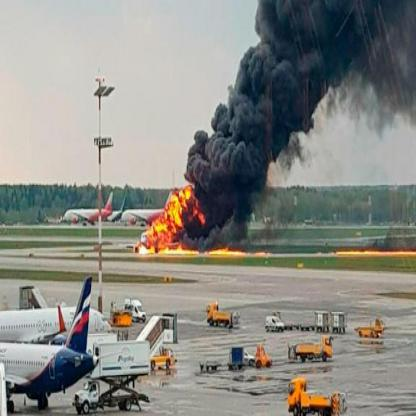CIV_Plane: (0, 274, 115, 414), (61, 190, 114, 226)
